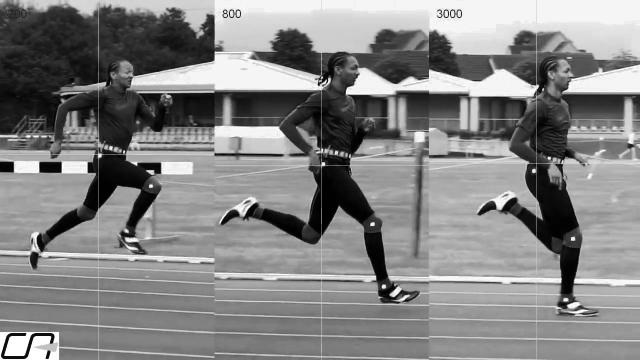berlari: (214, 46, 420, 306), (466, 44, 604, 322), (22, 50, 160, 274)
